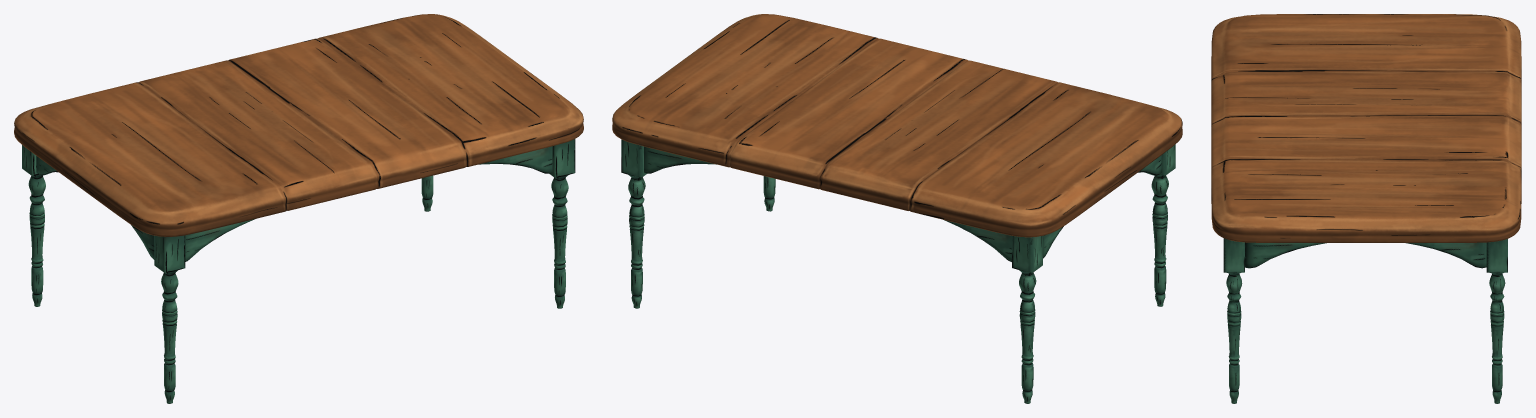
File: cartoon_table.glb
3 views of the same model, side by side, from view 1: azimuth 30°, elevation 25°; view 2: azimuth 150°, elevation 25°; view 3: azimuth 270°, elevation 25° (orthographic).
Parts seen in each view (by area): view 1: Box001, Box003, Box005, Box002, Object002__0, Object007__0; view 2: Box001, Box002, Box004, Box003, Object003__0, Object006__0; view 3: Box001, Box005, Box004, Object001__0, Object004__0.
Boxes of the visible parts, box(x1,y1,x2,y2) form: Box001: box(14, 14, 583, 236); Box003: box(154, 235, 185, 403); Box005: box(549, 139, 575, 308); Box002: box(22, 145, 45, 306); Object002__0: box(479, 146, 552, 173); Object007__0: box(185, 219, 254, 261); Box001: box(612, 14, 1182, 237); Box002: box(1012, 236, 1042, 403); Box004: box(621, 139, 647, 308); Box003: box(1151, 144, 1175, 306); Object003__0: box(644, 146, 716, 173); Object006__0: box(943, 219, 1011, 261); Box001: box(1211, 14, 1521, 242); Box005: box(1223, 238, 1244, 403); Box004: box(1486, 239, 1507, 403); Object001__0: box(1245, 242, 1326, 268); Object004__0: box(1406, 242, 1486, 268).
Bounding box in the file's own units: 89.39 × 37.66 × 54.52.
1 material, 1 textured.
